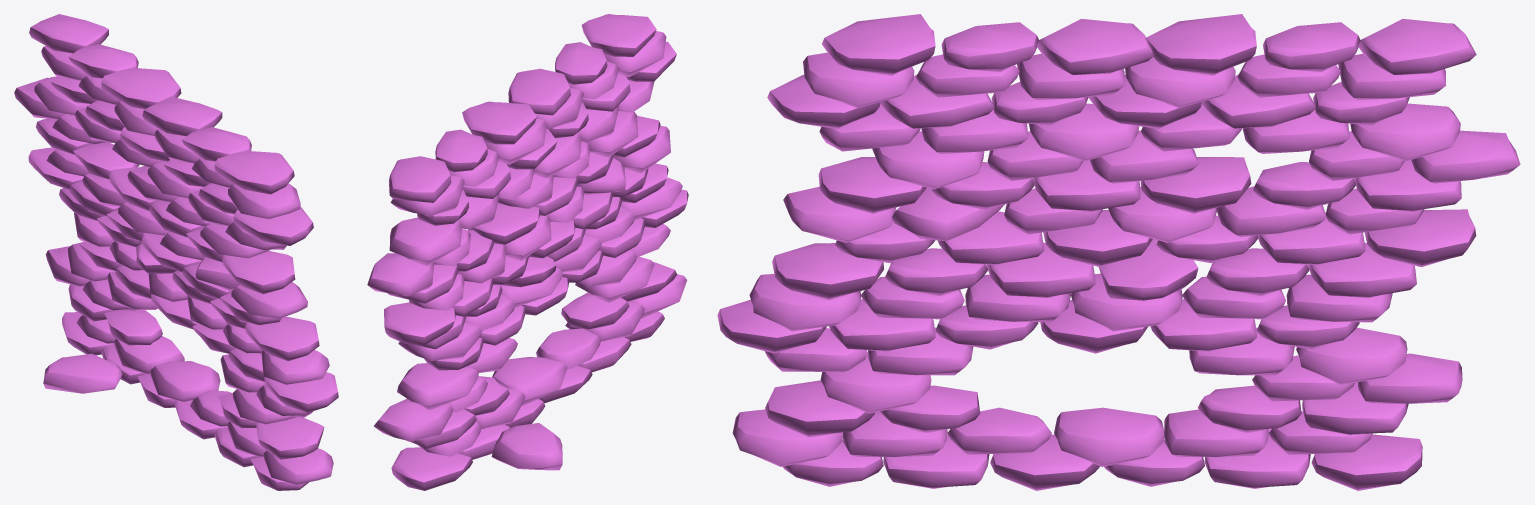
File: BrickWall02_mesh.fbx
3 renders of one model, left to right at view 1: azimuth 30°, elevation 25°; view 2: azimuth 150°, elevation 25°; view 3: azimuth 270°, elevation 25°, orthographic. The views are drawn at different scales.
Visible parts, largest first — view 1: BrickWall02_mesh; view 2: BrickWall02_mesh; view 3: BrickWall02_mesh.
Boxes of the visible parts, left/top/right/bottom form: BrickWall02_mesh: left=14, top=14, right=338, bottom=490; BrickWall02_mesh: left=367, top=14, right=688, bottom=490; BrickWall02_mesh: left=717, top=14, right=1520, bottom=490.
Bounding box in the file's own units: 1.97 × 4.86 × 7.91.
